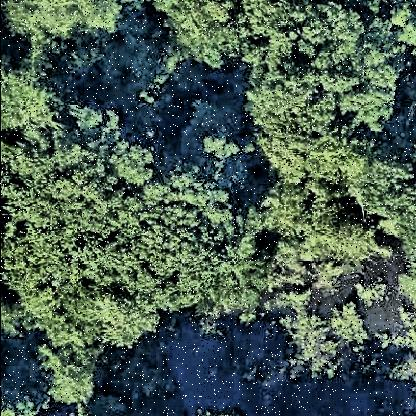tree-top: (1, 138, 120, 308), (112, 179, 231, 305), (251, 49, 397, 139), (243, 1, 368, 59), (152, 1, 244, 72), (264, 133, 366, 193), (299, 201, 377, 269), (1, 1, 126, 40), (41, 344, 109, 408), (1, 61, 61, 133), (211, 256, 273, 322), (95, 296, 163, 350), (363, 155, 416, 220), (111, 137, 166, 187), (202, 124, 244, 173)
